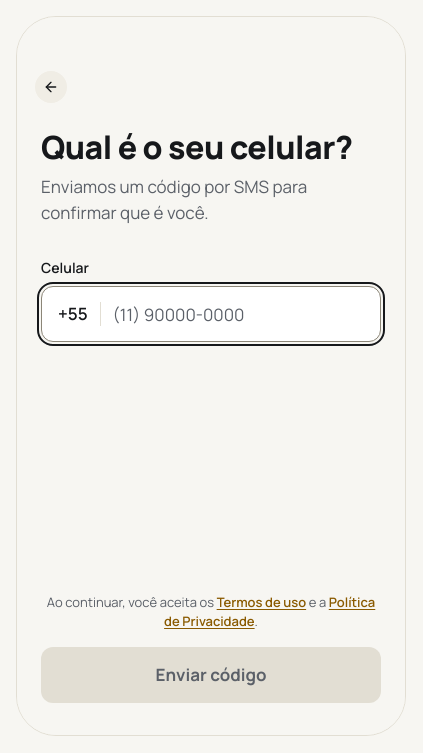
Test case: SignInPhonePage (screen 03) › RN-AUT-03: after 3 codes in an hour, the fourth request is refused with a message
The image size is (423, 753).
Type "11900000000" into the field labelled "Celular" at (238, 314), box [113,287,364,341]
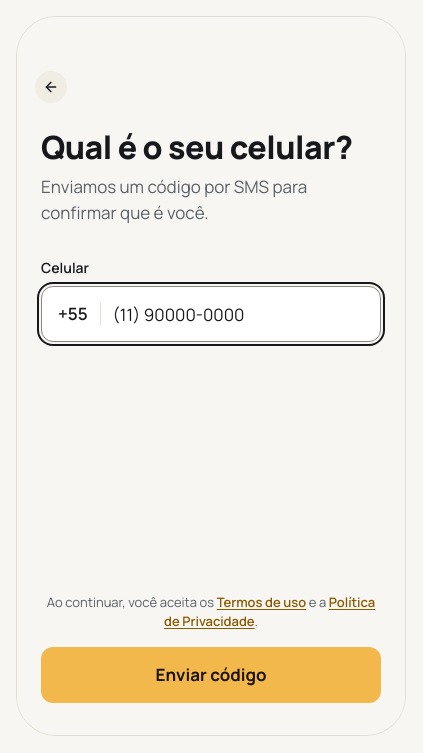
Click the button "Enviar código" at (211, 675), box [41,647,381,703]
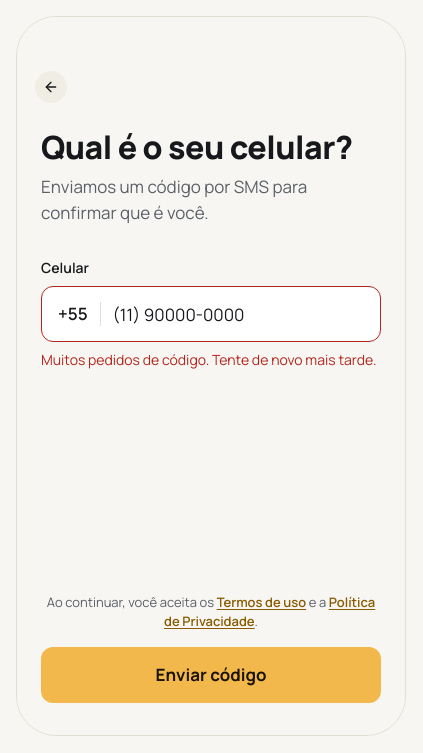
Now the text "Muitos pedidos de código. Tente de novo mais tarde." is shown, box [41,350,381,370]
